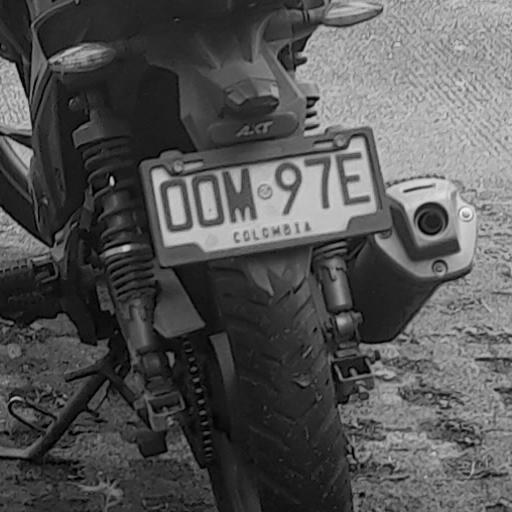placa: (145, 131, 381, 256)
